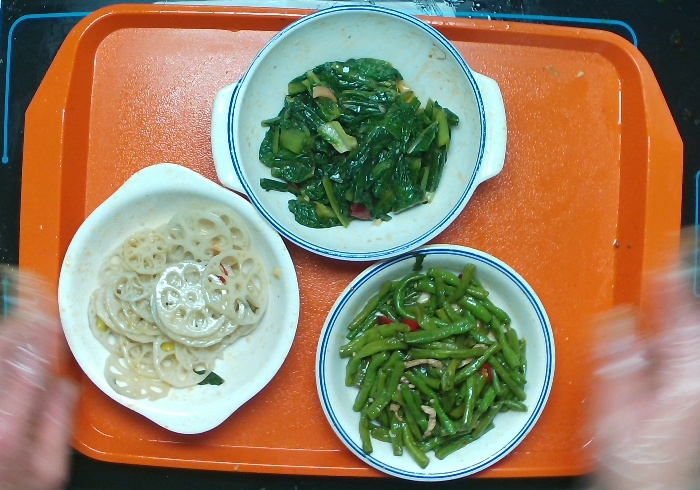HZYJPL-Dai_Er_Bai_Yuan_Wan: (54, 162, 303, 438)
HZYJPL-Lan_Bian_Dai_Er_Wan: (209, 4, 509, 268)
HZYJPL-Lan_Bian_Yuan_Die: (311, 243, 554, 482)
